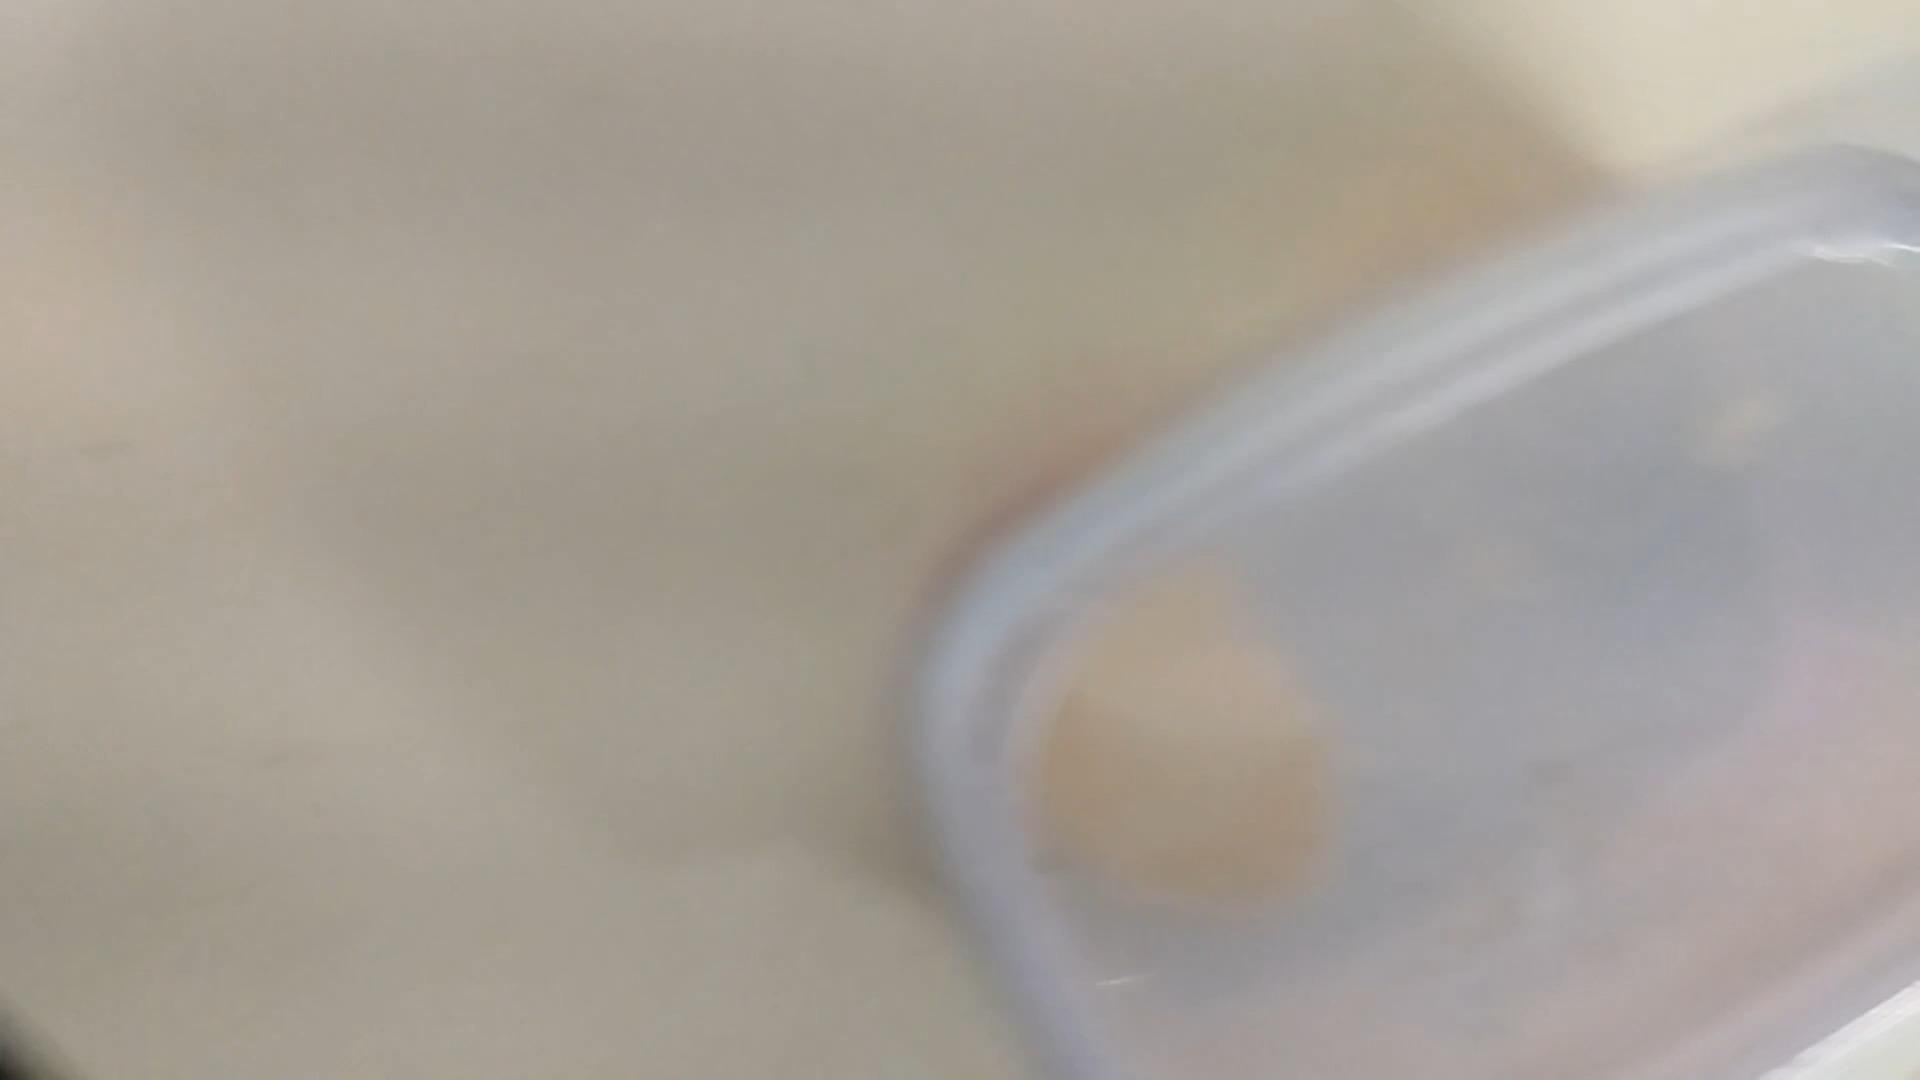butter: (905, 146, 1920, 1080)
